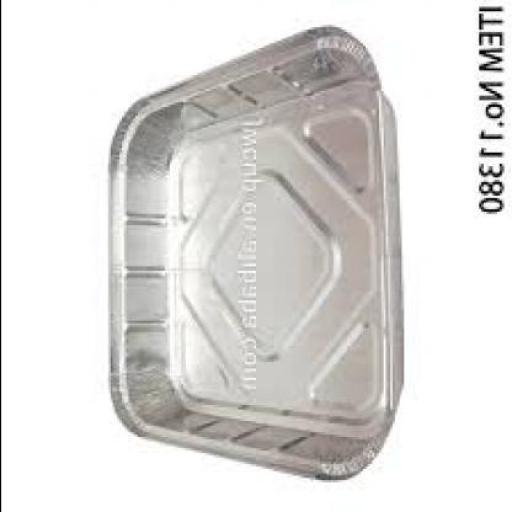metal: (107, 22, 396, 480)
